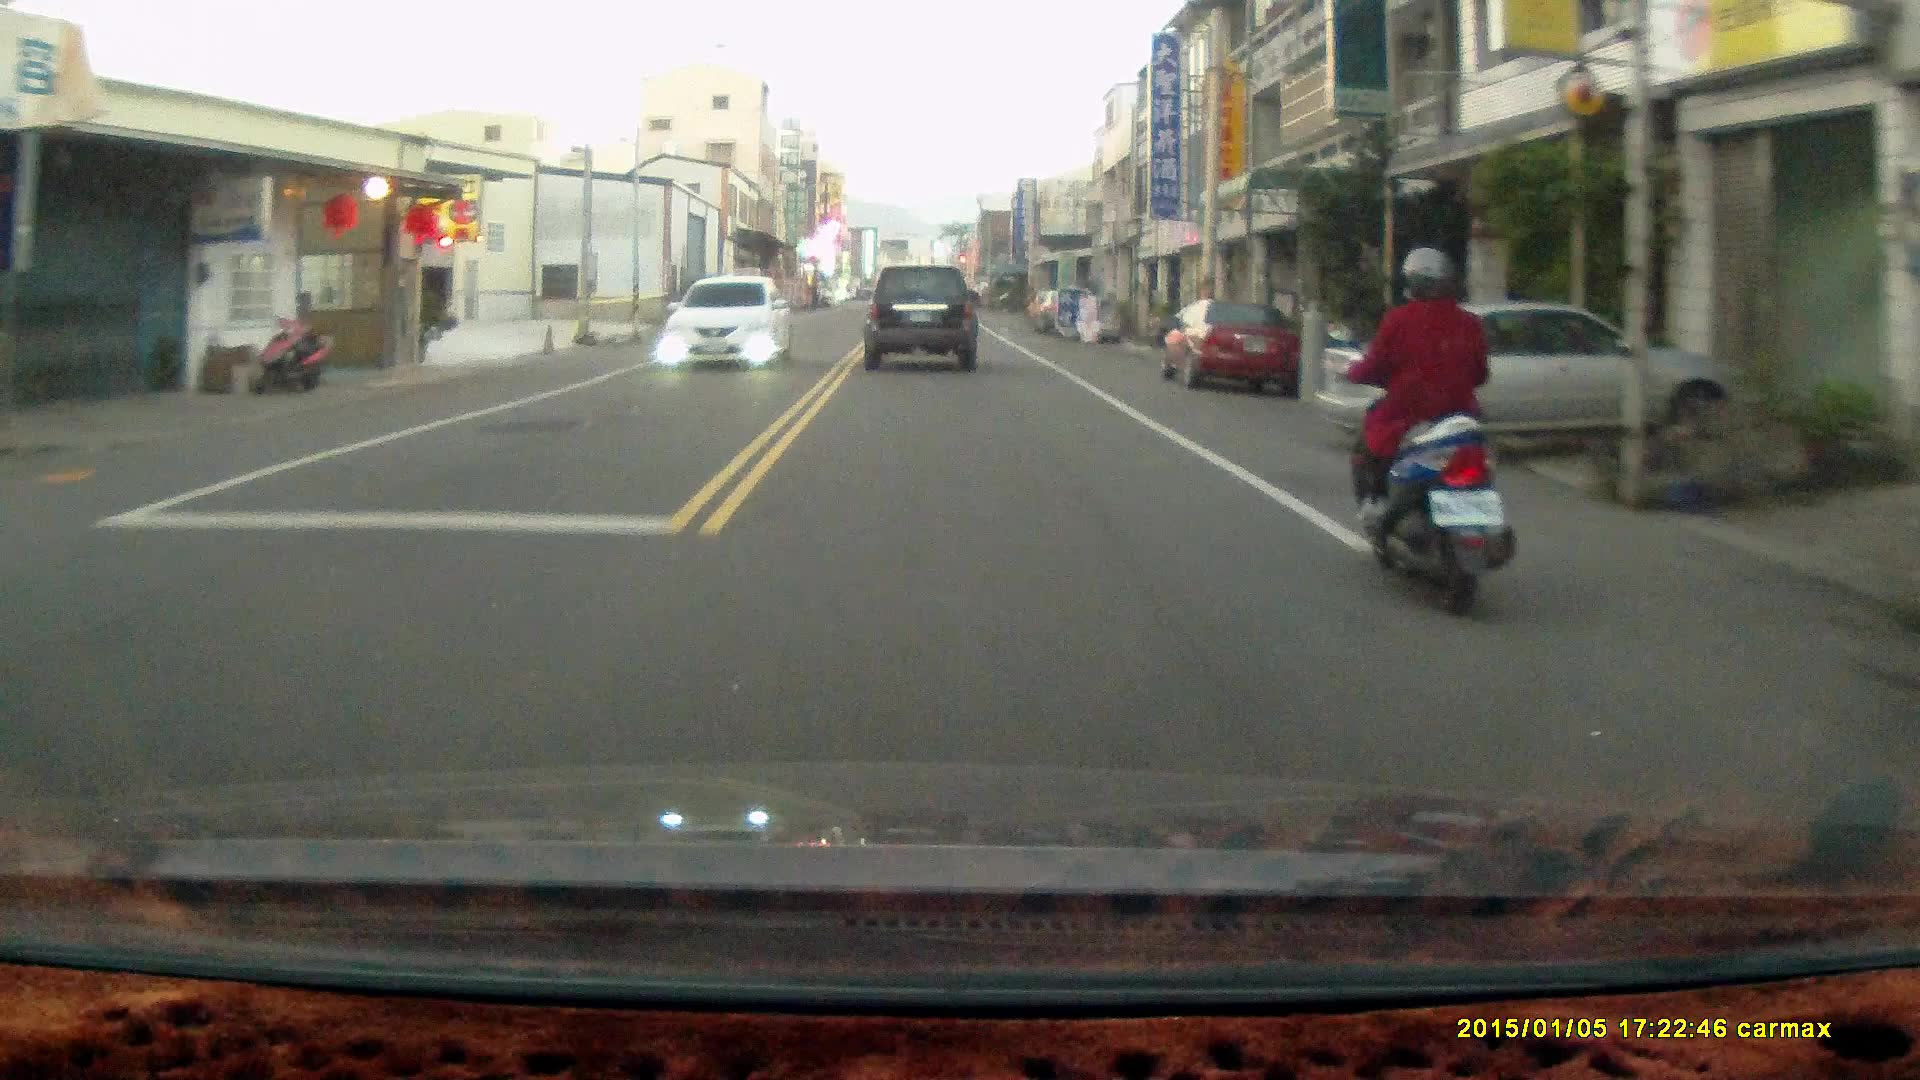rider: (1323, 240, 1515, 615)
vehicle: (1319, 297, 1758, 469), (1158, 300, 1298, 396), (862, 262, 982, 370), (661, 278, 795, 371)
